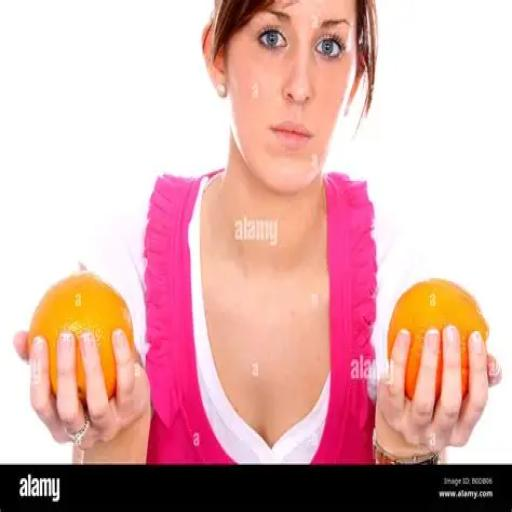orange: (29, 271, 133, 403), (387, 279, 489, 400)
